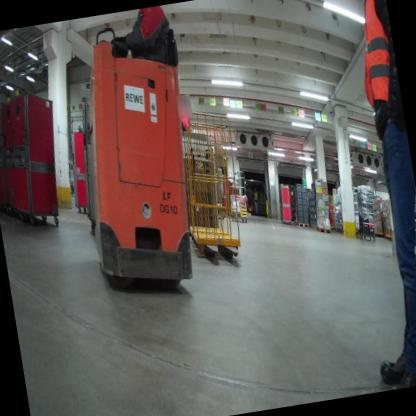pallet: (293, 216, 310, 231), (315, 222, 333, 235), (312, 223, 319, 231), (309, 222, 314, 230)
pallet_truck: (45, 22, 220, 307), (163, 116, 253, 284)
